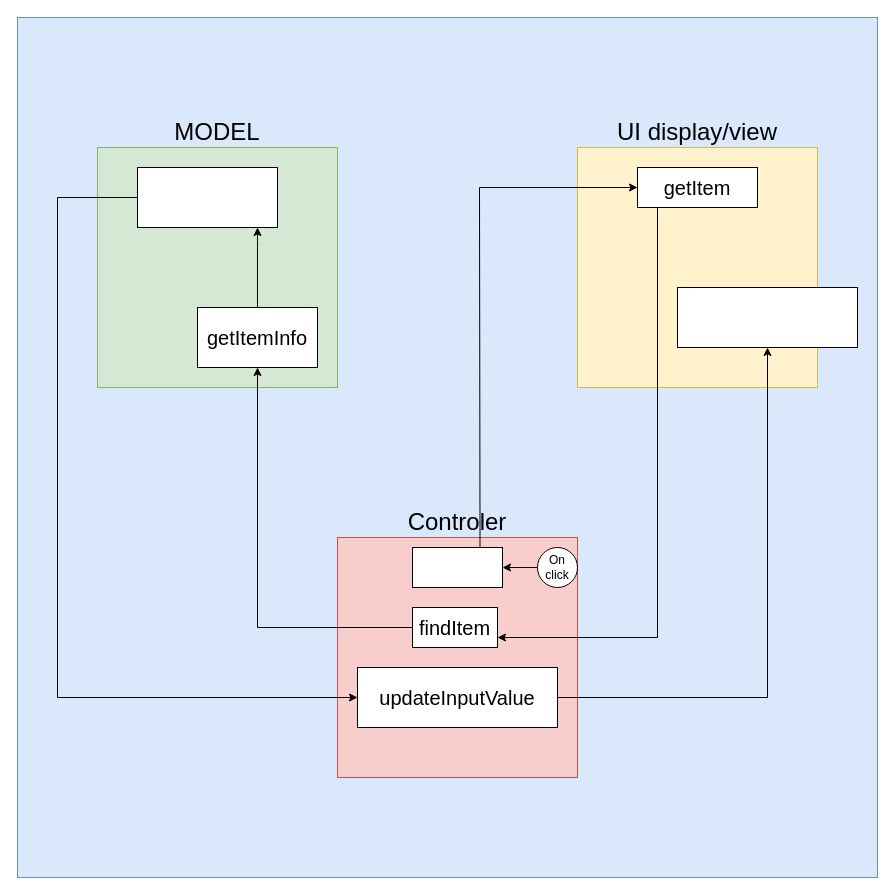
The diagram is 895 pixels wide and 895 high, and some of its shapes have lost their labels. Here are the shapes that lost their labels. From the top down, the box of each, then its label:
(136, 166, 278, 228): storageCheck
(676, 286, 858, 348): renderInputValue
(412, 546, 502, 588): editItem
